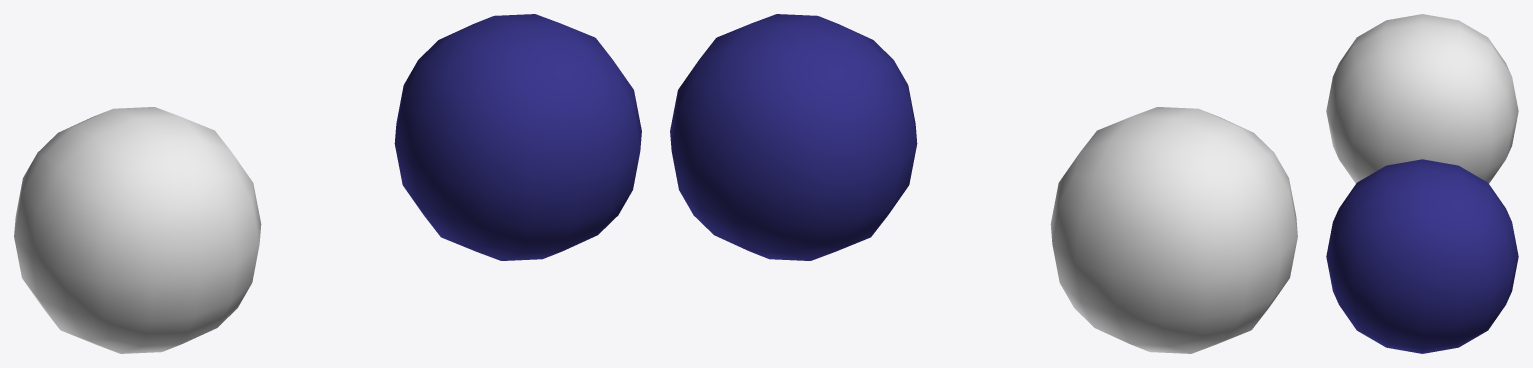
3 views of the same model, side by side, from view 1: azimuth 30°, elevation 25°; view 2: azimuth 150°, elevation 25°; view 3: azimuth 270°, elevation 25° (orthographic). The views are drawn at different scales.
Parts seen in each view (by area): view 1: CubeB, CubeA; view 2: CubeB, CubeA; view 3: CubeA, CubeB.
Boxes of the visible parts, x1,y1,x2,y2 form: CubeB: [14, 107, 261, 353]; CubeA: [394, 14, 641, 260]; CubeB: [1050, 107, 1297, 353]; CubeA: [670, 14, 917, 260]; CubeA: [1326, 159, 1518, 353]; CubeB: [1326, 14, 1518, 183].
Bounding box in the file's own units: 4.68 × 1.68 × 1.68.
